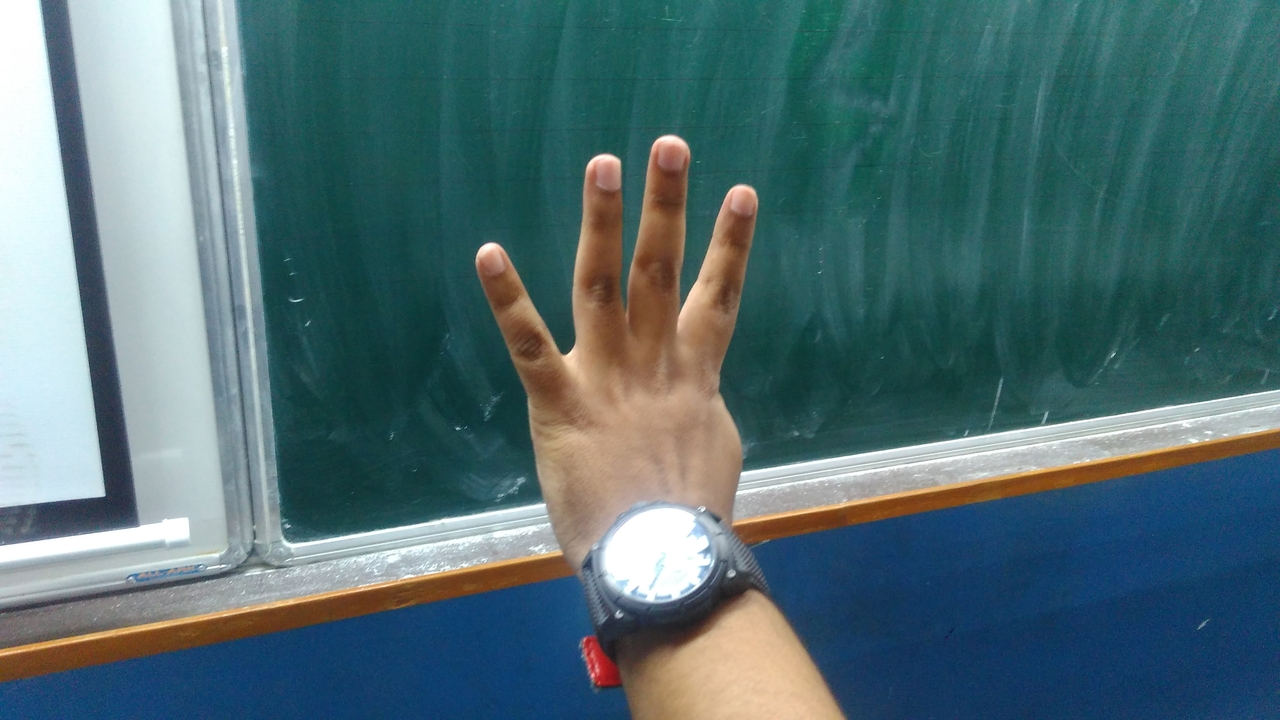fingertip: (464, 234, 520, 288), (638, 130, 696, 182), (574, 144, 630, 196), (710, 174, 764, 226)
